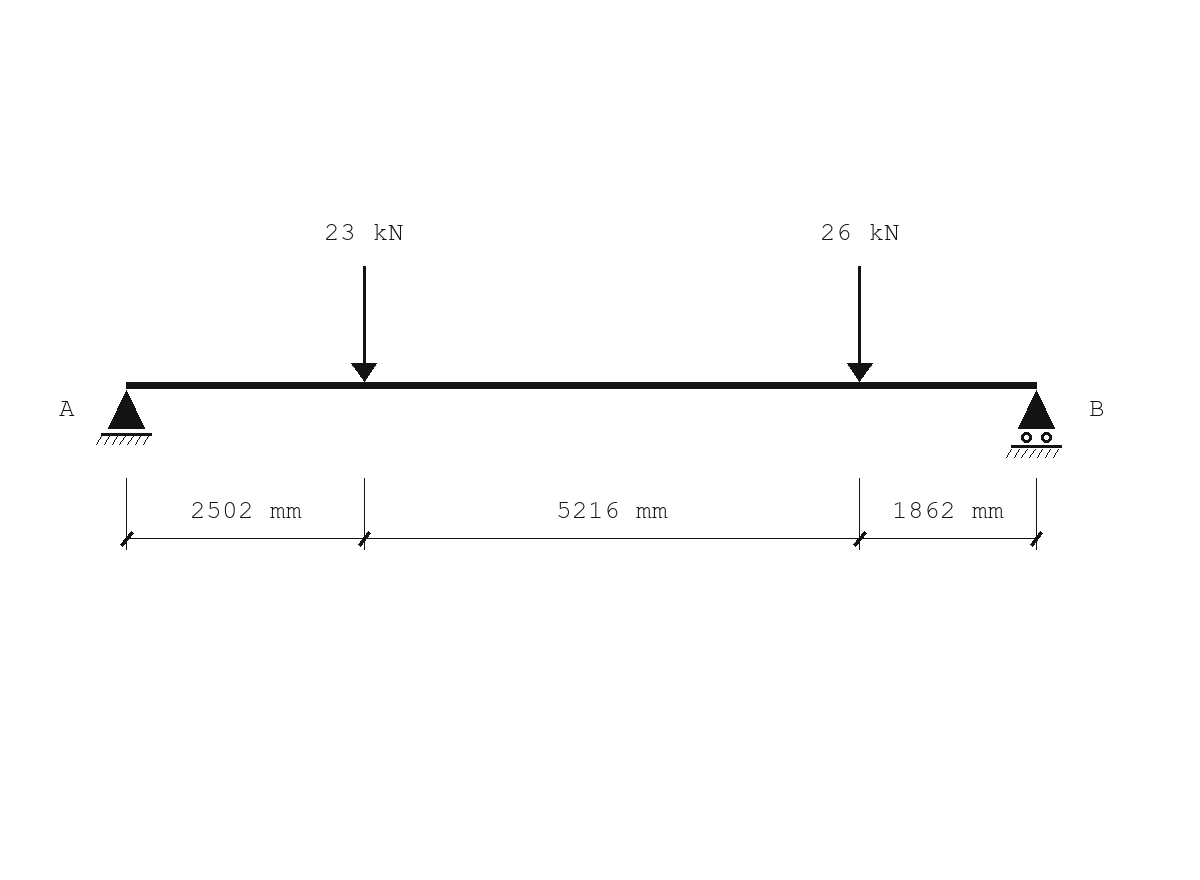pin_support: (96, 390, 152, 445)
point_load: (351, 266, 377, 382), (847, 266, 873, 382)
roller_support: (1006, 390, 1062, 458)
